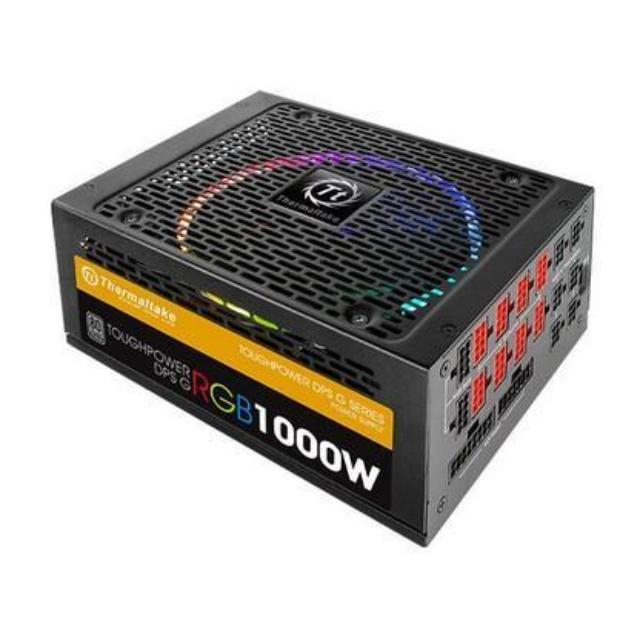PSU: (35, 73, 610, 556)
